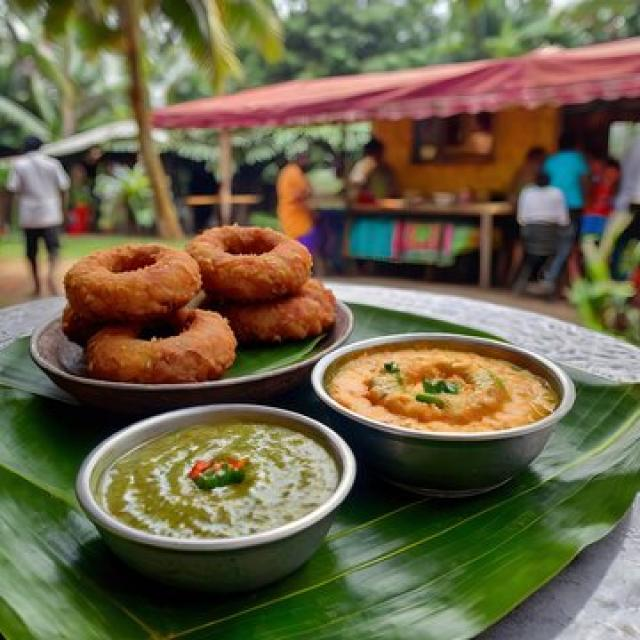MEDU VADA: (66, 243, 204, 317), (92, 311, 235, 381), (187, 227, 312, 295), (200, 282, 336, 336)
